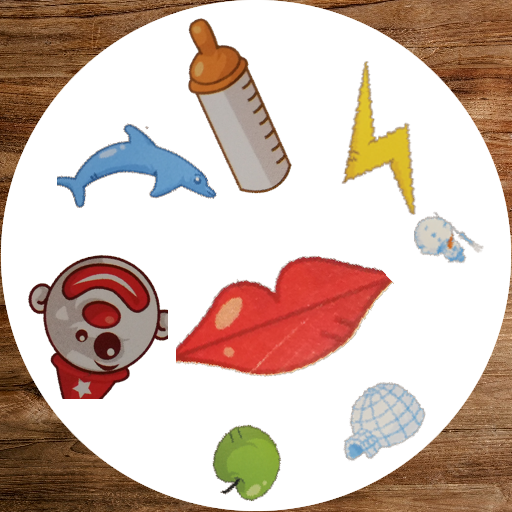apple_icon: (211, 423, 291, 503)
bottle_icon: (139, 10, 331, 202)
clown_icon: (19, 250, 168, 399)
dolphin_icon: (57, 94, 217, 254)
igloo_icon: (332, 379, 427, 474)
lightning_icon: (303, 60, 463, 220)
lips_icon: (176, 219, 398, 441)
snowman_icon: (414, 204, 484, 274)
